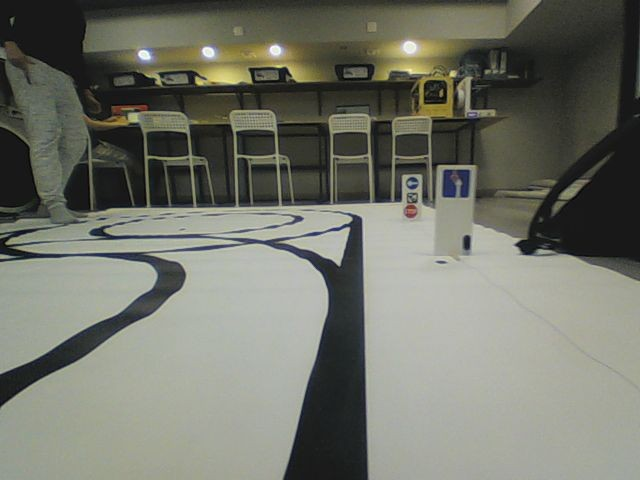priority_movement: (440, 169, 470, 198)
